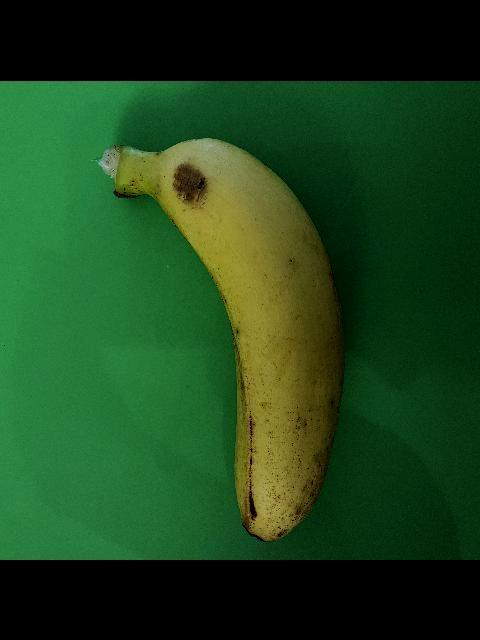banana: (96, 133, 348, 544)
